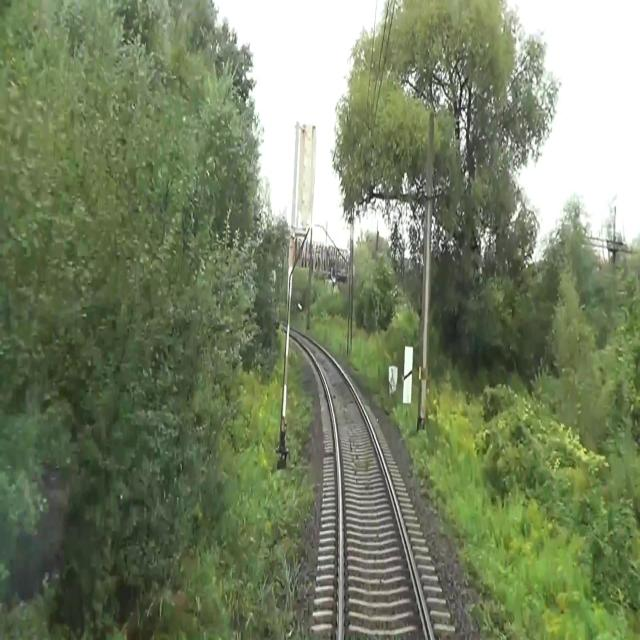rail-track: (291, 330, 430, 639)
